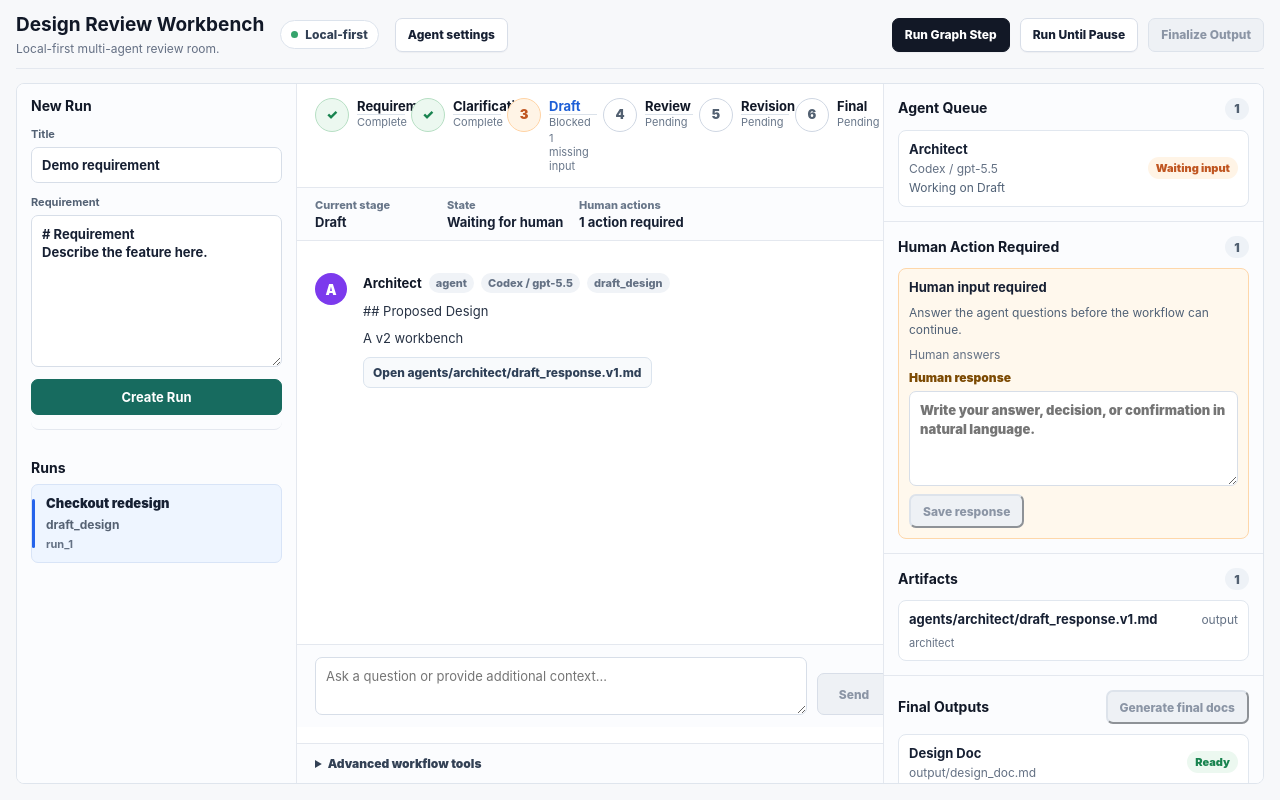
RunListPage › opens conversation attachments in the central stream
Click the button "Open agents/architect/draft_response.v1.md".
click(507, 373)  # box [363, 358, 652, 388]
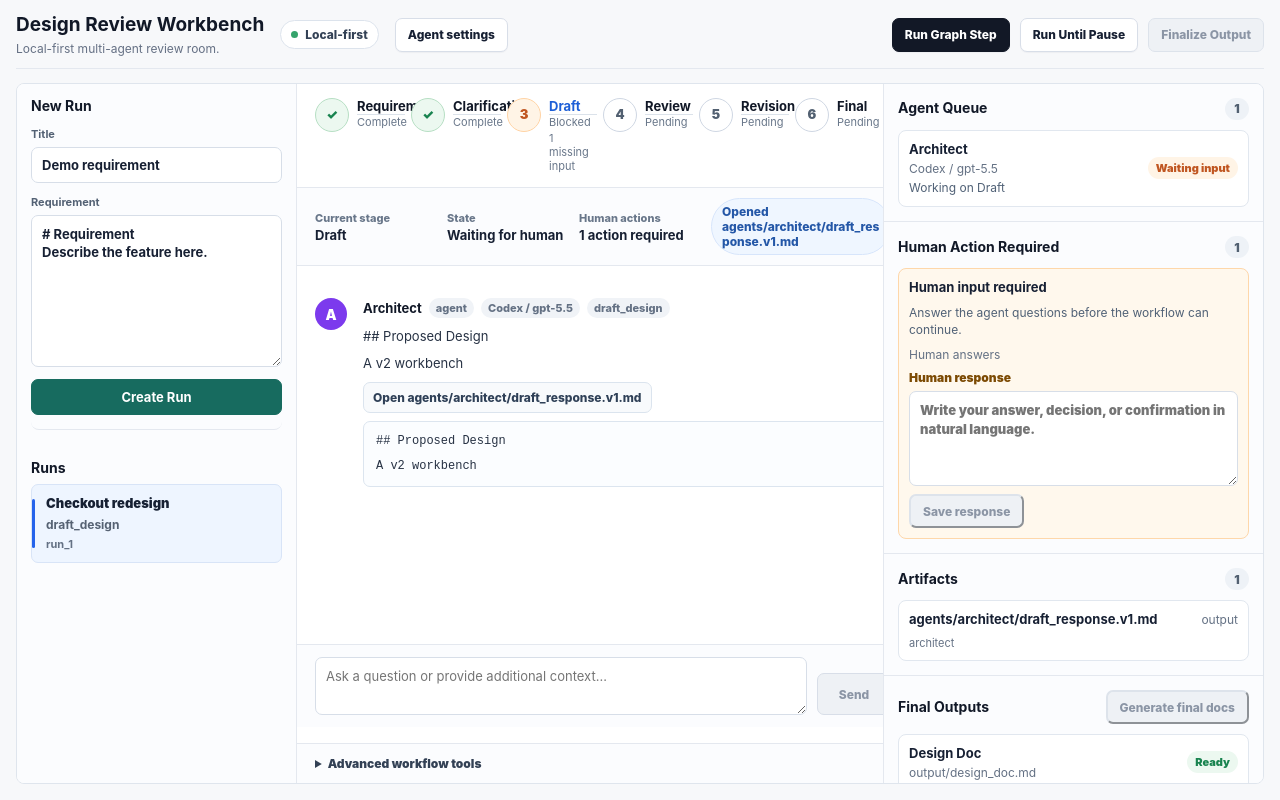
Expected: the 2nd text "## Proposed Design" is shown, [376, 434, 506, 448]
Expected: the 2nd text "A v2 workbench" is shown, [376, 459, 477, 473]
